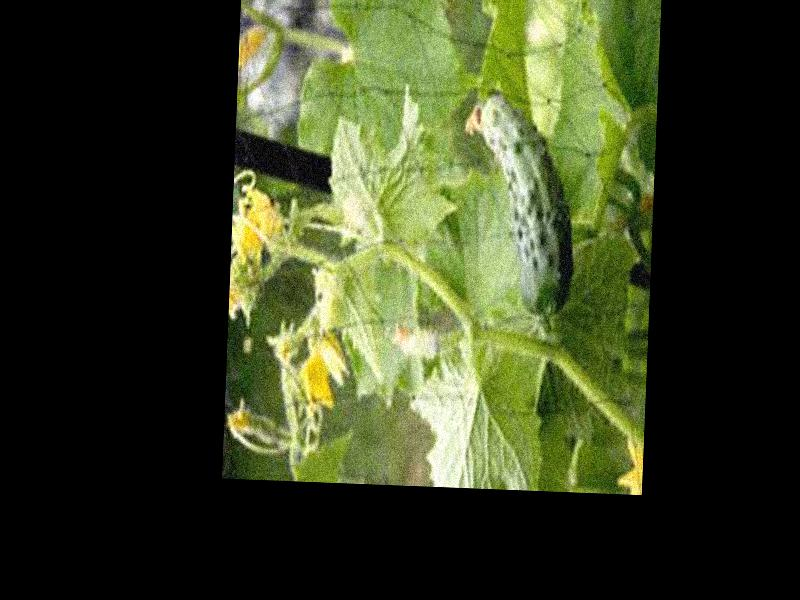Cucumber: (456, 90, 578, 321)
